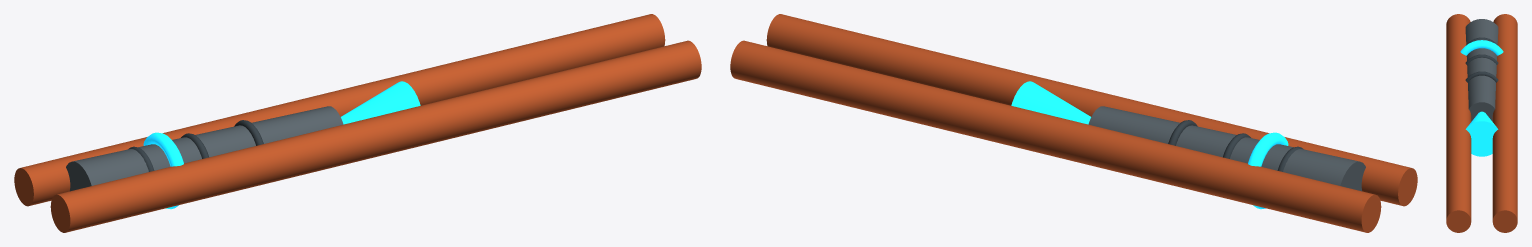
File: shot.glb
3 views of the same model, side by side, from view 1: azimuth 30°, elevation 25°; view 2: azimuth 150°, elevation 25°; view 3: azimuth 270°, elevation 25° (orthographic). The views are drawn at different scales.
Size of the model in its own units: 5.2 by 0.56 by 0.8.
